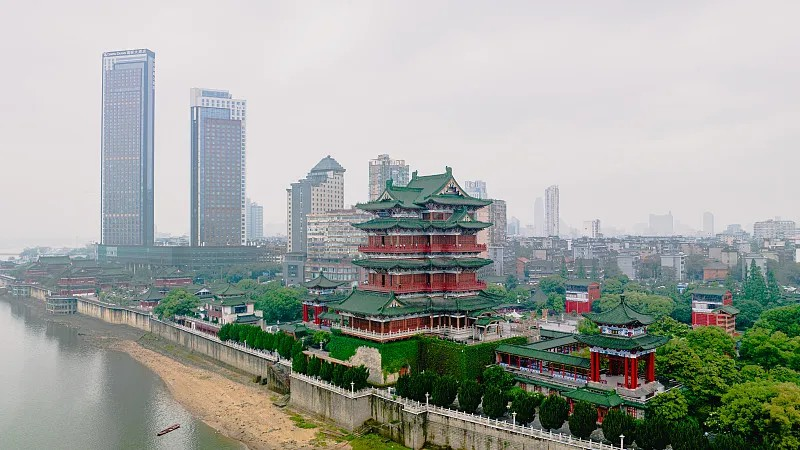Teng: (320, 166, 494, 333)
